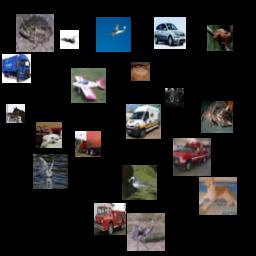airplane: (71, 68, 106, 103), (96, 17, 131, 52), (60, 30, 79, 49)
automobile: (154, 17, 186, 49)
bird: (127, 213, 165, 251), (122, 165, 157, 200), (33, 154, 68, 189)
cat: (199, 177, 237, 215), (201, 101, 233, 133), (165, 88, 184, 107), (131, 62, 150, 81)
dog: (36, 122, 62, 148)
frog: (16, 14, 54, 52), (207, 25, 233, 51)
truck: (173, 138, 211, 176), (126, 104, 161, 139), (94, 203, 126, 235), (2, 54, 31, 83), (75, 131, 101, 157)
